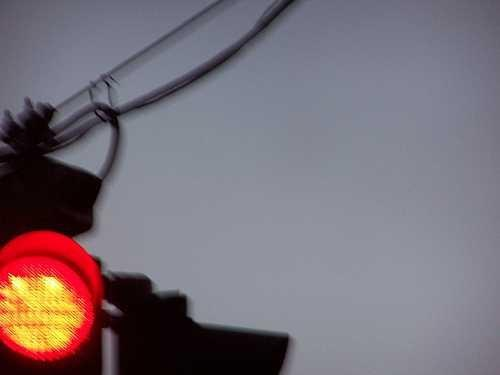red: (0, 227, 104, 369)
